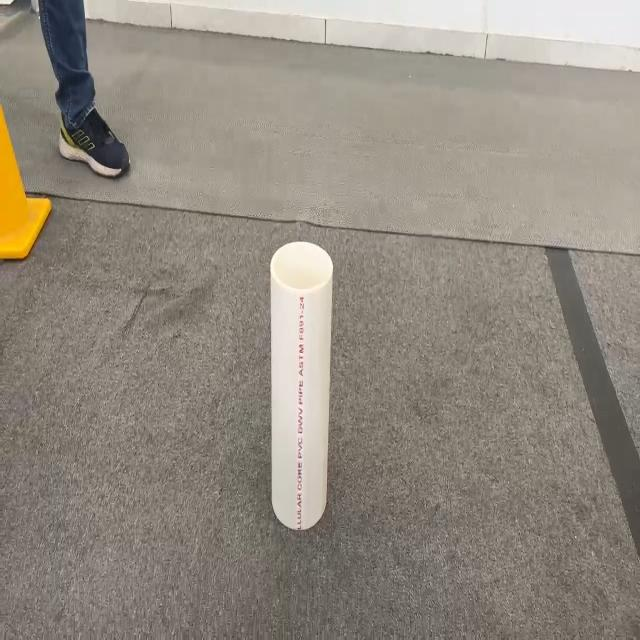coral: (269, 239, 333, 531)
